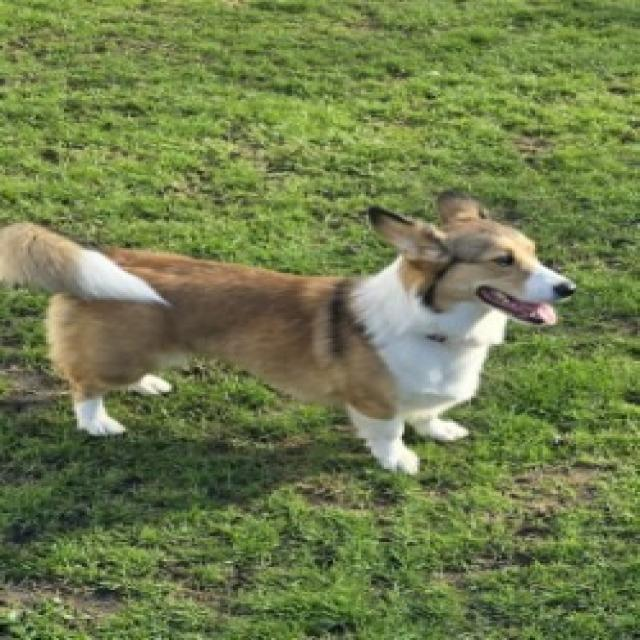corgi_dog: (358, 181, 583, 343)
